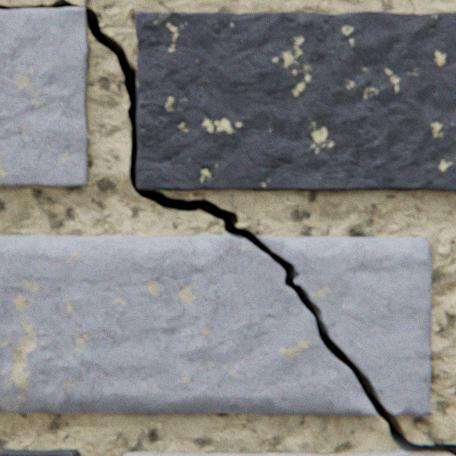brick: (135, 12, 455, 191), (0, 8, 88, 186), (0, 448, 79, 455)
broken_brick: (0, 234, 375, 414), (257, 236, 430, 414), (123, 449, 452, 455)
crack: (0, 0, 455, 455)
